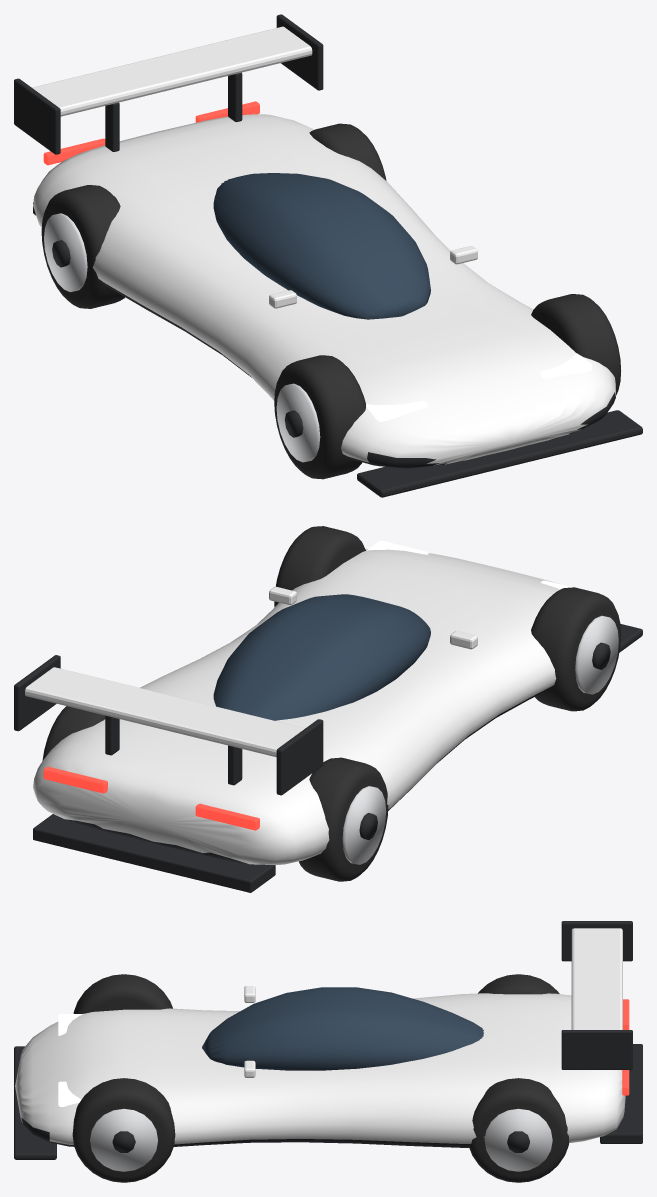
Rendered from car.glb.
3 views of the same model, one above another, from view 1: azimuth 30°, elevation 25°; view 2: azimuth 150°, elevation 25°; view 3: azimuth 270°, elevation 25° (orthographic). The views are drawn at different scales.
Visible parts, largest first — view 1: body, wheel_FR, wheel_RR, wheel_FL, wheel_RL; view 2: body, wheel_FR, wheel_RR, wheel_FL, wheel_RL; view 3: body, wheel_FL, wheel_RL, wheel_FR, wheel_RR.
Boxes of the visible parts, x1=… form: body: x1=14, y1=14, x2=642, y2=497; wheel_FR: x1=274, y1=355, x2=365, y2=479; wheel_RR: x1=41, y1=185, x2=124, y2=308; wheel_FL: x1=531, y1=294, x2=620, y2=395; wheel_RL: x1=309, y1=123, x2=386, y2=180; body: x1=14, y1=540, x2=642, y2=892; wheel_FR: x1=531, y1=587, x2=621, y2=711; wheel_RR: x1=299, y1=757, x2=388, y2=881; wheel_FL: x1=274, y1=526, x2=365, y2=607; wheel_RL: x1=42, y1=706, x2=105, y2=760; body: x1=14, y1=921, x2=642, y2=1159; wheel_FL: x1=72, y1=1078, x2=175, y2=1182; wheel_RL: x1=469, y1=1078, x2=569, y2=1182; wheel_FR: x1=73, y1=974, x2=172, y2=1013; wheel_RR: x1=478, y1=974, x2=559, y2=994.
Bounding box in the file's own units: 2.14 × 1.15 × 4.4.
